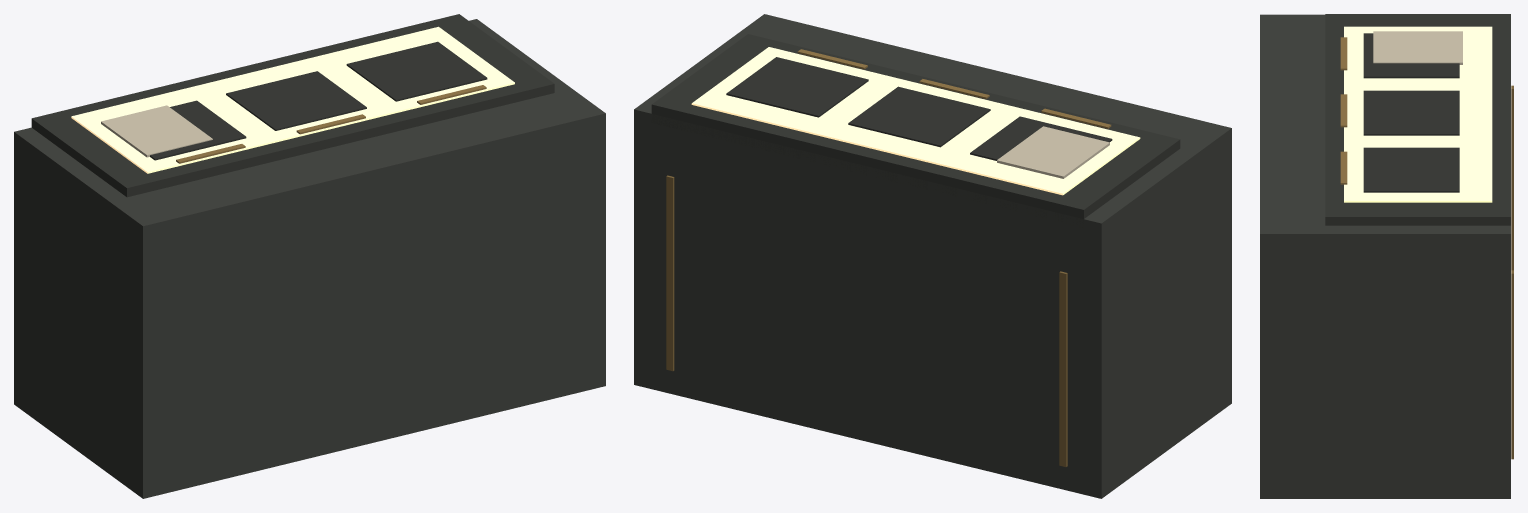
File: snrled-station.mobile.glb
3 renders of one model, left to right at view 1: azimuth 30°, elevation 25°; view 2: azimuth 150°, elevation 25°; view 3: azimuth 270°, elevation 25°, orthographic. The views are drawn at different scales.
Visible parts, largest first — view 1: SA_W05_MESH_60, SA_W05_MESH_61, SA_W05_MESH_63, SA_W05_MESH_62; view 2: SA_W05_MESH_60, SA_W05_MESH_61, SA_W05_MESH_62, SA_W05_MESH_63; view 3: SA_W05_MESH_60, SA_W05_MESH_61, SA_W05_MESH_63, SA_W05_MESH_62.
Part boxes in pixels (bbox=[...]): SA_W05_MESH_60: bbox=[14, 14, 605, 498]; SA_W05_MESH_61: bbox=[71, 26, 514, 173]; SA_W05_MESH_63: bbox=[101, 105, 212, 157]; SA_W05_MESH_62: bbox=[176, 85, 486, 163]; SA_W05_MESH_60: bbox=[634, 14, 1231, 498]; SA_W05_MESH_61: bbox=[691, 47, 1140, 195]; SA_W05_MESH_62: bbox=[666, 49, 1111, 466]; SA_W05_MESH_63: bbox=[997, 126, 1109, 178]; SA_W05_MESH_60: bbox=[1260, 14, 1510, 498]; SA_W05_MESH_61: bbox=[1344, 26, 1492, 202]; SA_W05_MESH_63: bbox=[1373, 31, 1462, 64]; SA_W05_MESH_62: bbox=[1340, 37, 1513, 459].
Size of the model in its own units: 2.38 by 1.41 by 1.16.
Materials: 4 (1 with a texture image).
